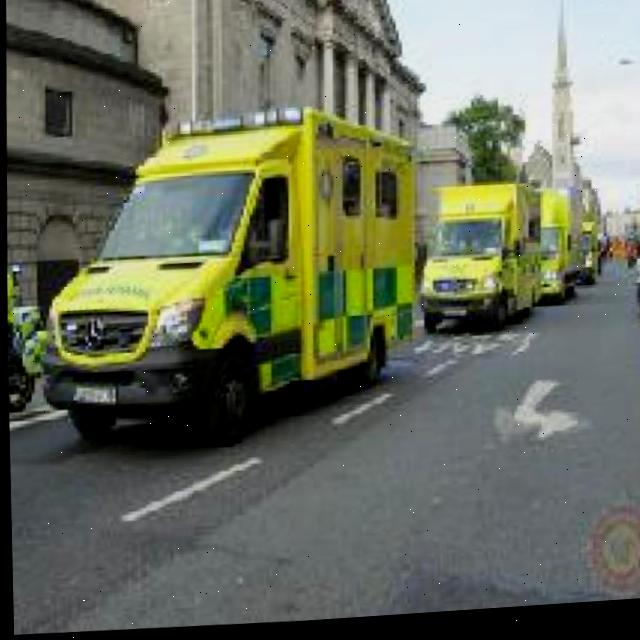emergency: (31, 98, 423, 464), (413, 186, 544, 339), (501, 195, 584, 309)
